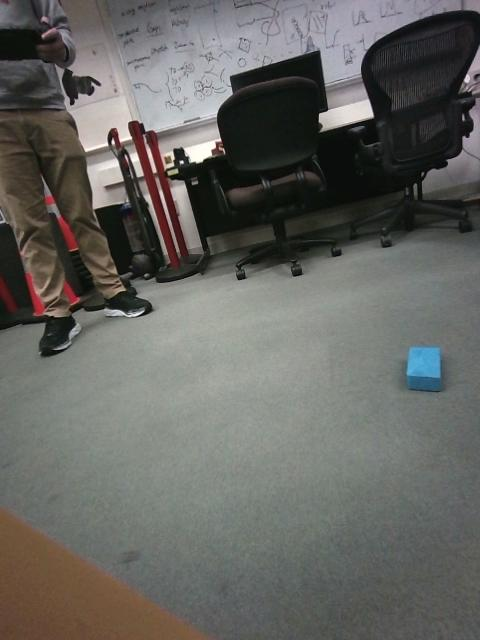block: (271, 323, 332, 381)
